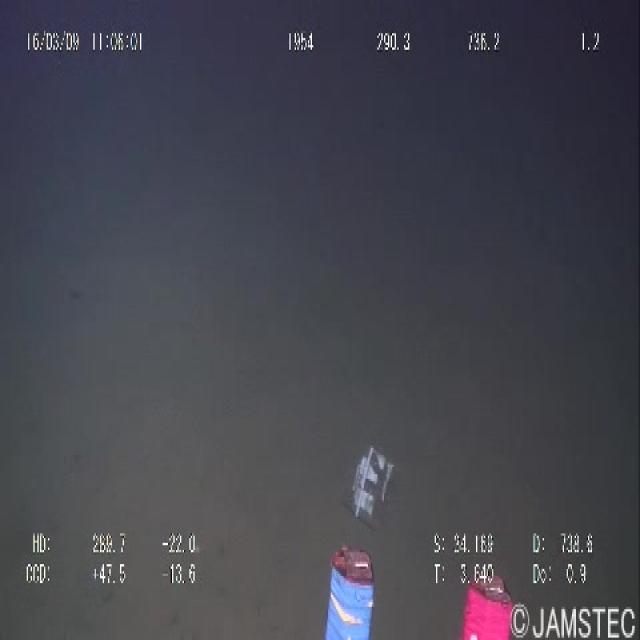plastic: (345, 434, 399, 531)
